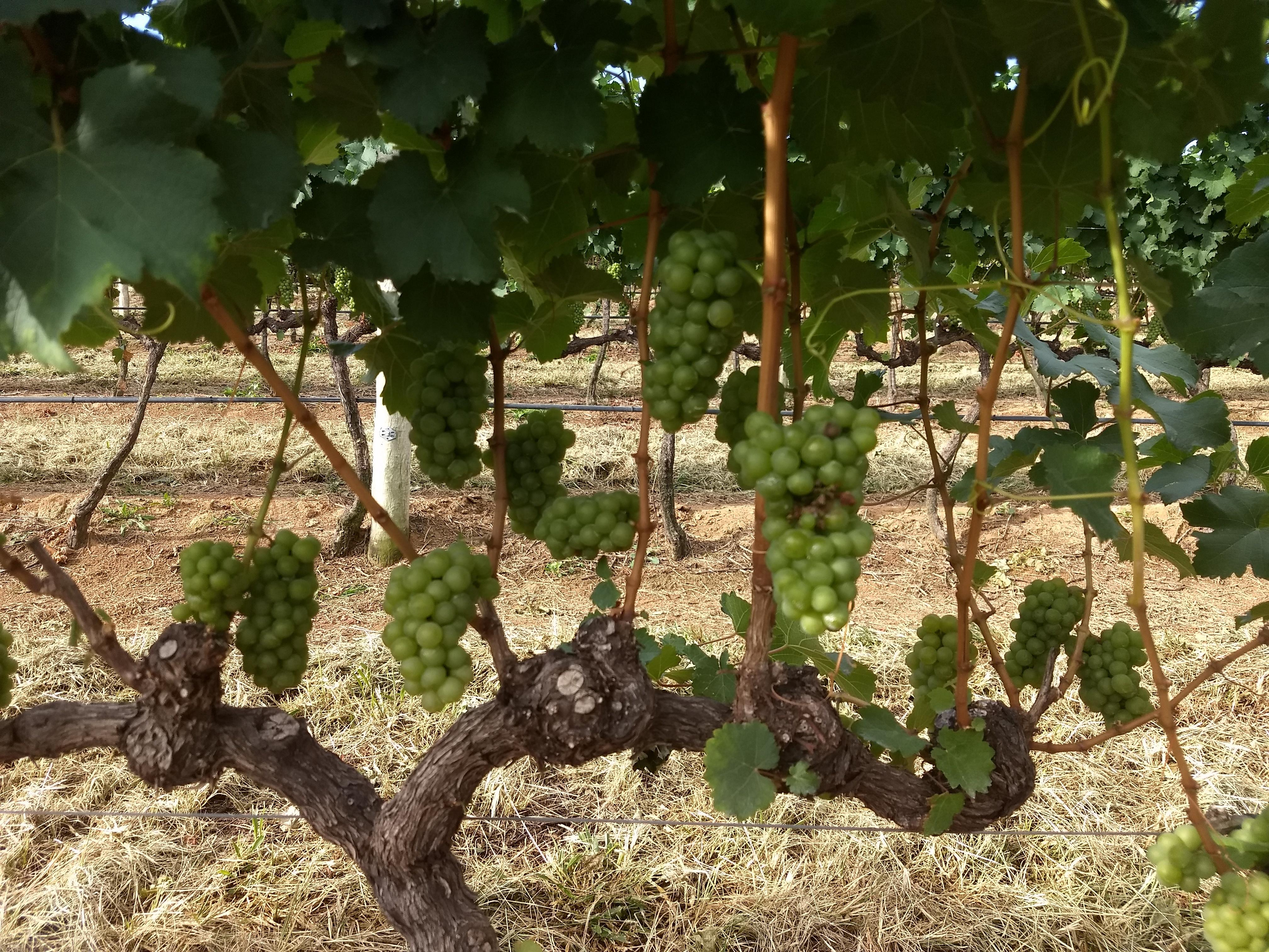leaf: (0, 53, 223, 337), (1114, 0, 1264, 163), (369, 140, 529, 283), (824, 0, 1004, 111), (637, 56, 762, 203), (481, 25, 605, 151), (370, 7, 489, 133), (1164, 234, 1268, 370), (498, 256, 623, 362), (984, 0, 1120, 87), (200, 123, 302, 231), (499, 148, 589, 270), (1021, 108, 1100, 238), (769, 609, 875, 701), (289, 178, 383, 279), (846, 90, 965, 165), (801, 236, 889, 335), (128, 33, 222, 119), (218, 30, 294, 136), (1181, 485, 1268, 577), (0, 267, 76, 372), (1132, 371, 1230, 452), (397, 267, 497, 344), (1043, 444, 1121, 540), (355, 321, 432, 416), (703, 722, 778, 819), (134, 273, 227, 344), (309, 47, 381, 138), (663, 633, 736, 704), (283, 19, 344, 100), (931, 728, 994, 796), (961, 142, 1011, 225), (206, 253, 262, 325), (851, 705, 927, 758), (732, 0, 841, 35), (0, 0, 147, 24), (1143, 455, 1210, 503), (1225, 155, 1268, 223), (295, 105, 343, 165), (1144, 521, 1195, 577), (1132, 343, 1199, 385), (304, 0, 391, 32), (348, 275, 399, 328), (1051, 380, 1100, 435), (635, 628, 679, 681), (1025, 237, 1089, 273), (922, 792, 965, 835), (1080, 320, 1120, 362), (930, 400, 978, 434), (784, 760, 821, 796), (1244, 436, 1268, 489), (984, 93, 1011, 133), (1235, 600, 1268, 627), (1114, 528, 1132, 561), (1034, 95, 1059, 114), (1108, 387, 1119, 403), (63, 320, 73, 333), (971, 123, 981, 136), (785, 2, 806, 8), (1029, 99, 1032, 112), (838, 11, 845, 16), (997, 129, 1003, 134), (1054, 97, 1056, 100), (895, 156, 900, 157), (1001, 0, 1006, 1), (979, 138, 980, 141), (821, 26, 822, 28), (1120, 4, 1121, 6), (958, 196, 960, 197), (1156, 0, 1157, 1), (1006, 0, 1007, 1)
